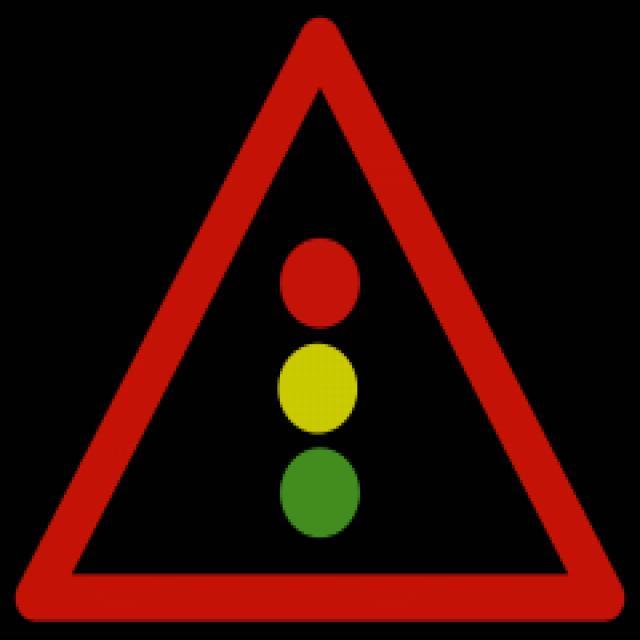danger: (5, 15, 640, 640)
